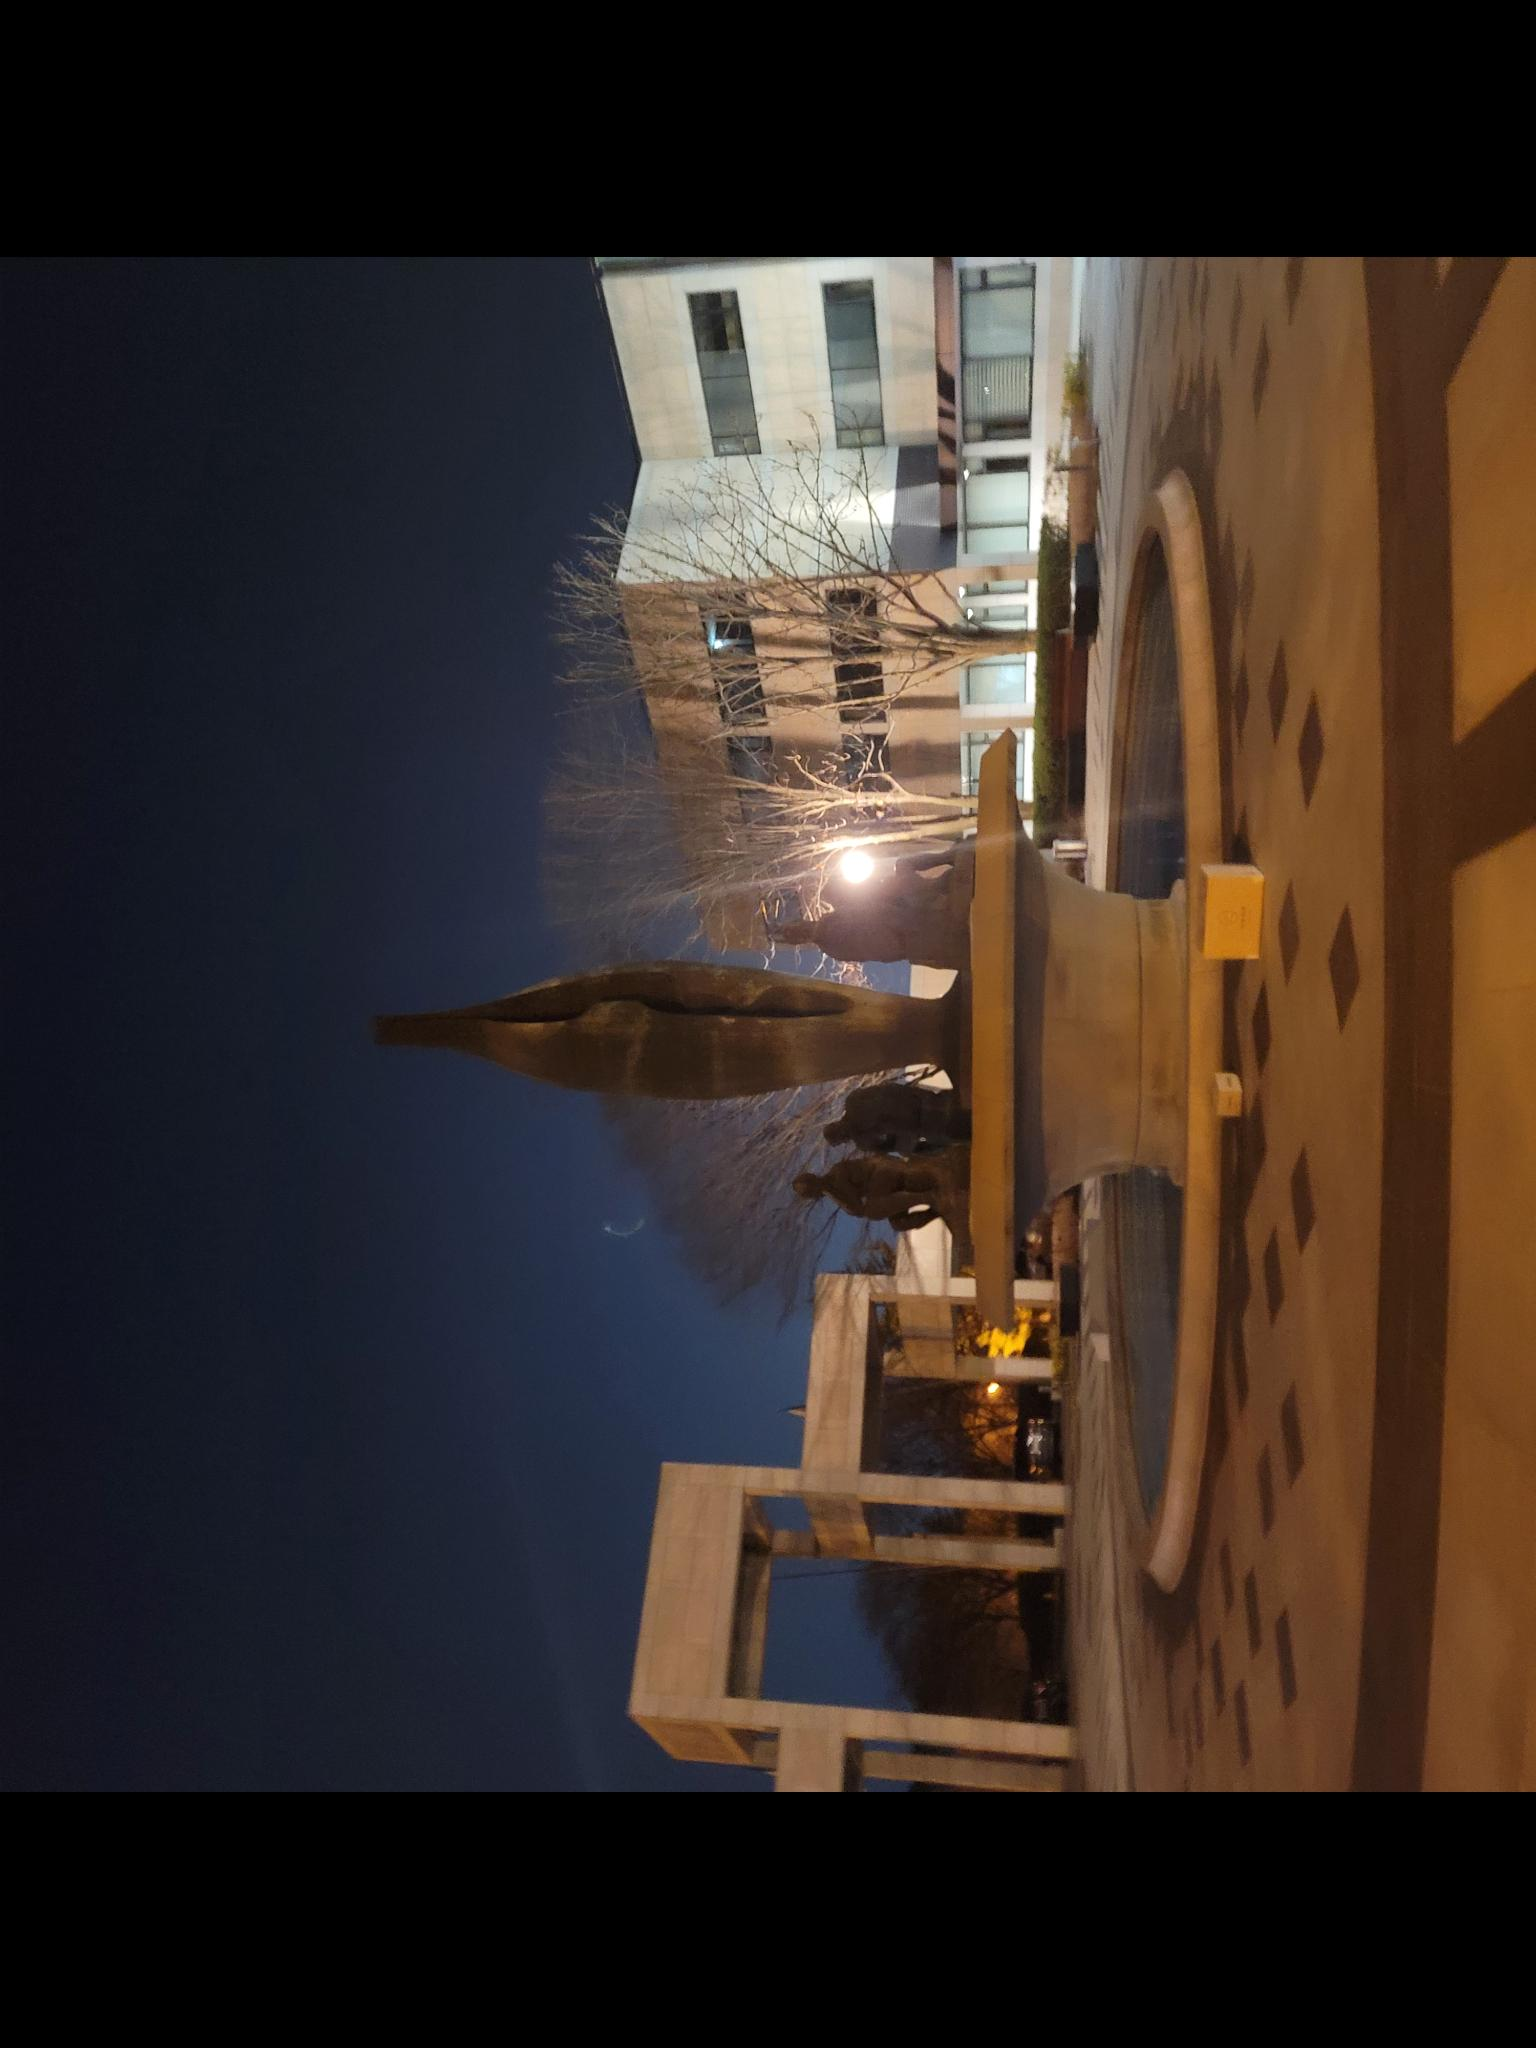Box: (1191, 845, 1271, 966), (1207, 1059, 1249, 1118)
